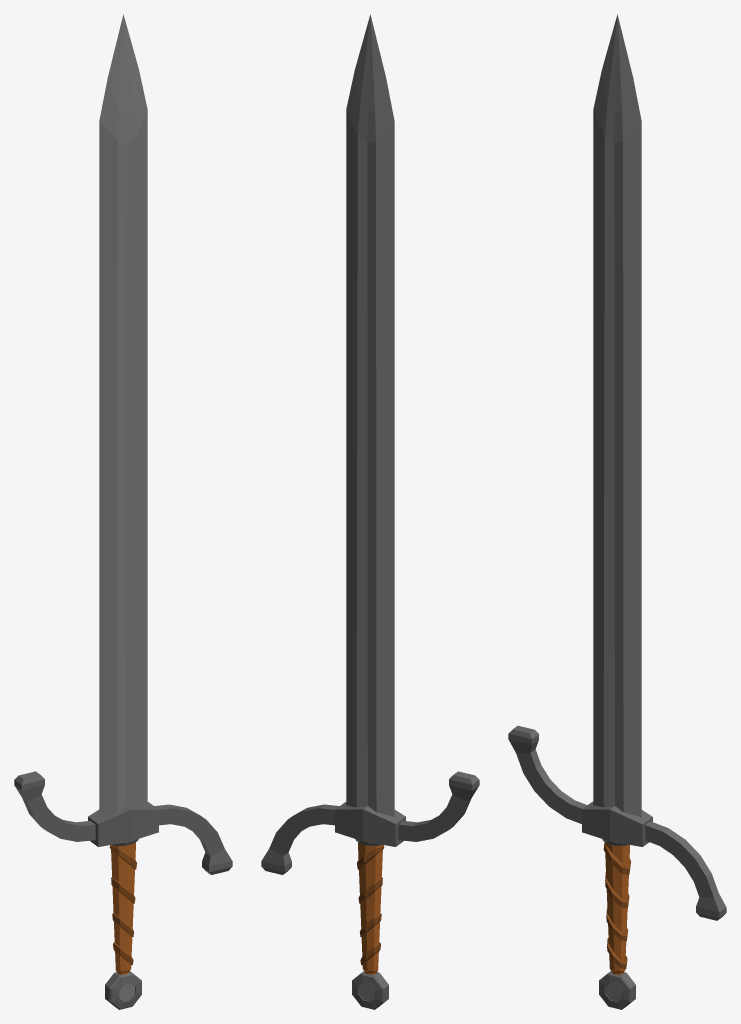
File: sword_7.fbx
3 views of the same model, side by side, from view 1: azimuth 30°, elevation 25°; view 2: azimuth 150°, elevation 25°; view 3: azimuth 330°, elevation 25° (orthographic).
Visible parts, largest first — view 1: Sword; view 2: Sword; view 3: Sword.
Part boxes in pixels (box(x1,y1,x2,y2)): Sword: box(14, 14, 232, 1009); Sword: box(261, 14, 479, 1009); Sword: box(508, 14, 726, 1009).
Bounding box in the file's own units: 55.74 × 251 × 6.76.
